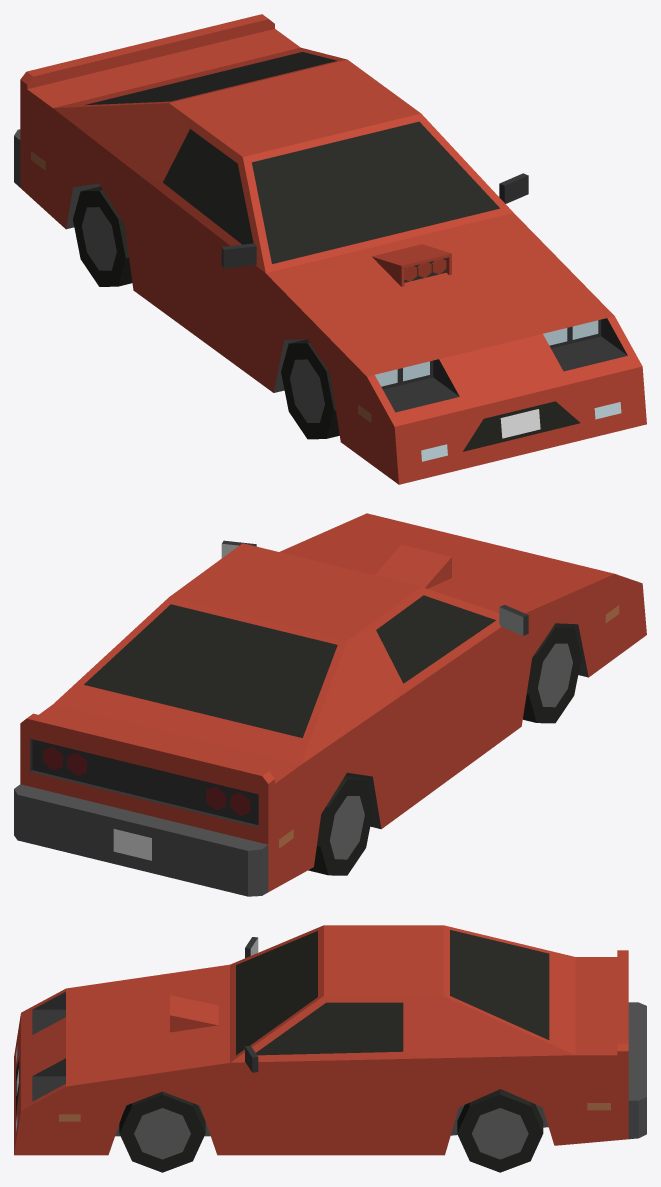
Rendered from Veh_Muscle_Car_03_Red.obj.
3 renders of one model, top to bottom at view 1: azimuth 30°, elevation 25°; view 2: azimuth 150°, elevation 25°; view 3: azimuth 270°, elevation 25°, orthographic. The views are drawn at different scales.
Bounding box in the file's own units: 1.24 × 0.7814 × 2.75.
